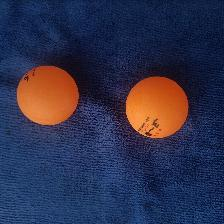YellowBall: (124, 75, 190, 139), (15, 64, 80, 127)
